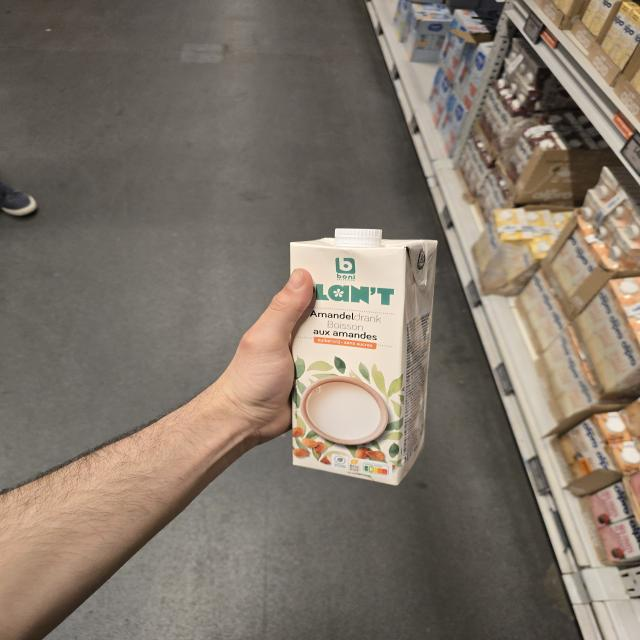Milk: (291, 229, 437, 485)
